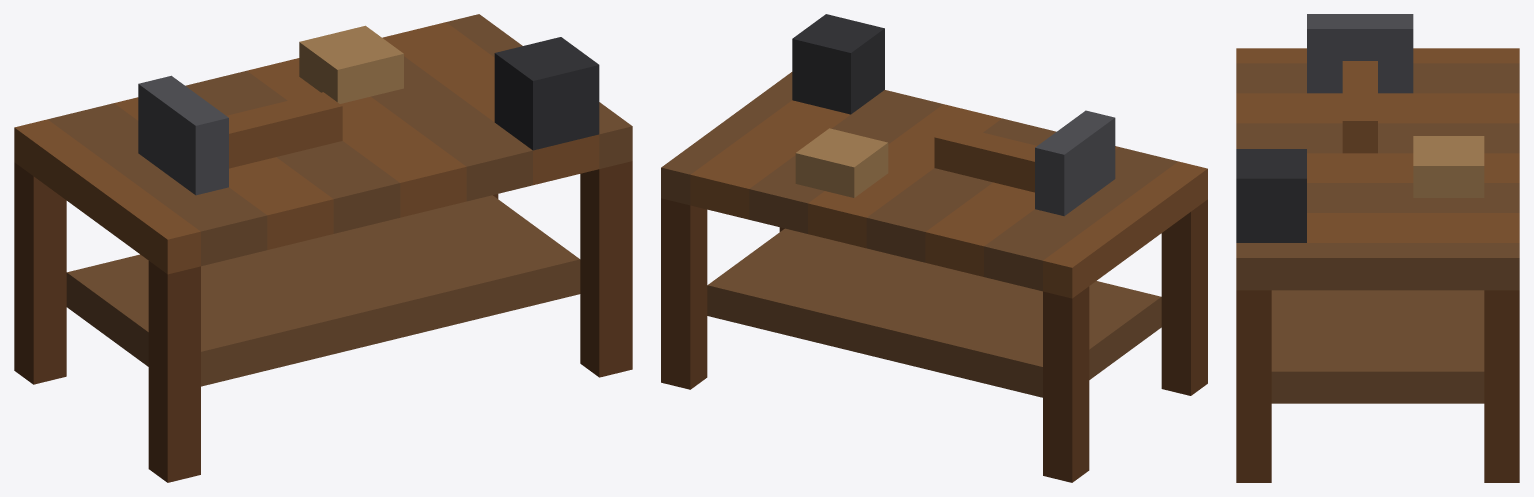
Rendered from prop_workbench_voxel.fbx.
3 renders of one model, left to right at view 1: azimuth 30°, elevation 25°; view 2: azimuth 150°, elevation 25°; view 3: azimuth 270°, elevation 25°, orthographic. The views are drawn at different scales.
Visible parts, largest first — view 1: prop_workbench_voxel; view 2: prop_workbench_voxel; view 3: prop_workbench_voxel.
Boxes of the visible parts, x1,y1,x2,y2 form: prop_workbench_voxel: [14, 14, 632, 482]; prop_workbench_voxel: [661, 14, 1207, 482]; prop_workbench_voxel: [1236, 14, 1519, 482].
Bounding box in the file's own units: 1.75 × 1.13 × 1.
